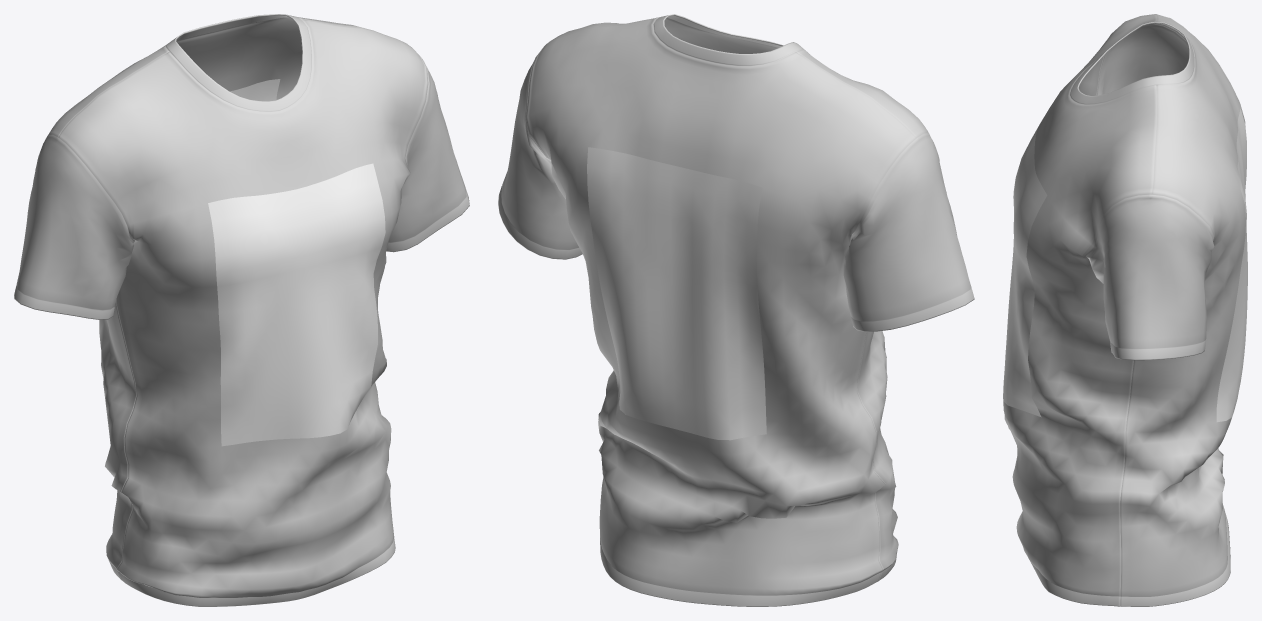
File: tshirt.gltf
3 renders of one model, left to right at view 1: azimuth 30°, elevation 25°; view 2: azimuth 150°, elevation 25°; view 3: azimuth 270°, elevation 25°, orthographic. The views are drawn at different scales.
Visible parts, largest first — view 1: tshirt, surface_front, surface_back; view 2: tshirt, surface_back; view 3: tshirt, surface_front, surface_back.
Part boxes in pixels (box(x1,y1,x2,y2)): tshirt: box(14, 14, 469, 606); surface_front: box(208, 163, 385, 446); surface_back: box(230, 79, 280, 101); tshirt: box(498, 14, 974, 606); surface_back: box(587, 147, 766, 440); tshirt: box(1003, 14, 1245, 606); surface_front: box(1003, 126, 1047, 417); surface_back: box(1216, 109, 1247, 422).
Size of the model in its own units: 1.61 by 1.78 by 0.7847.
3 materials, 2 textured.
